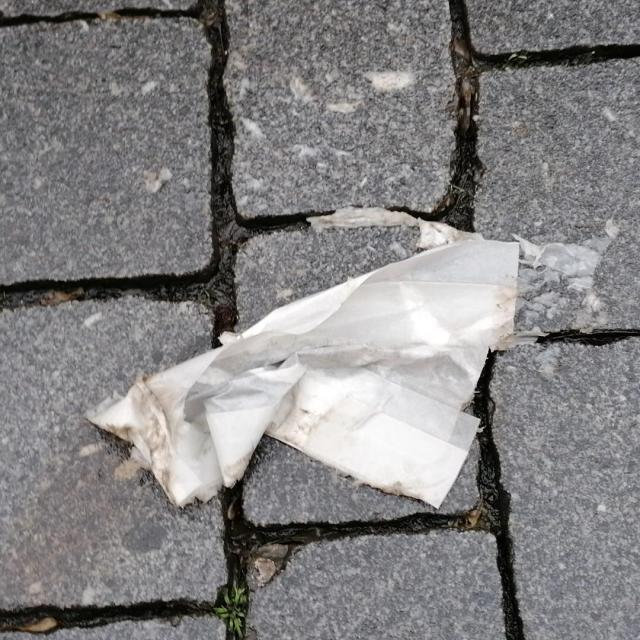Paper: (81, 235, 524, 510)
